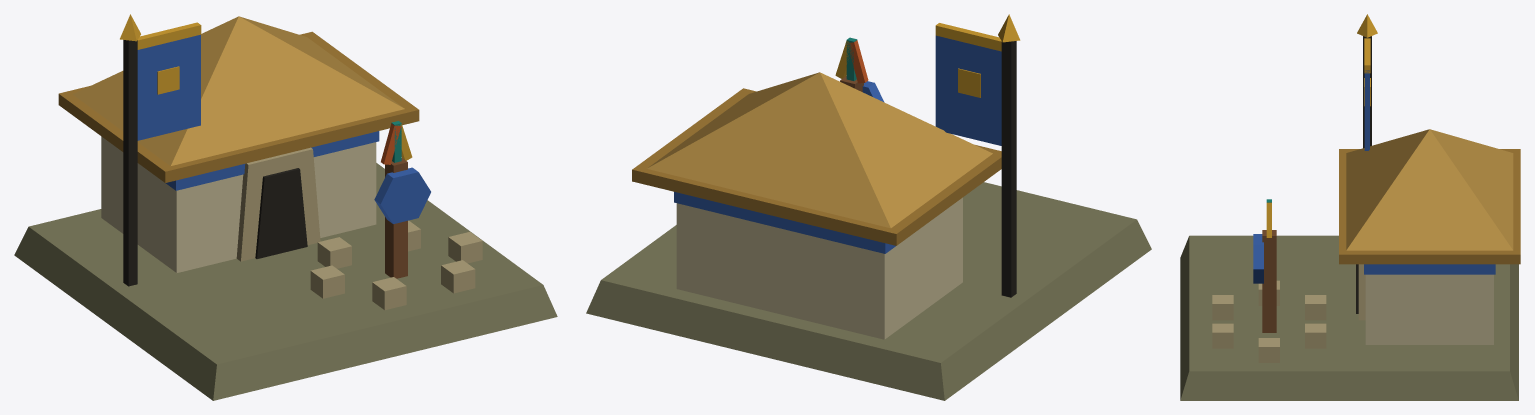
File: camp_militia_t1.glb
3 renders of one model, left to right at view 1: azimuth 30°, elevation 25°; view 2: azimuth 150°, elevation 25°; view 3: azimuth 270°, elevation 25°, orthographic. The views are drawn at different scales.
Visible parts, largest first — view 1: body; view 2: body; view 3: body.
Boxes of the visible parts, x1=… form: body: x1=14, y1=14, x2=557, y2=400; body: x1=586, y1=14, x2=1151, y2=400; body: x1=1180, y1=14, x2=1520, y2=400.
Bounding box in the file's own units: 1.9 × 1.58 × 1.91.
